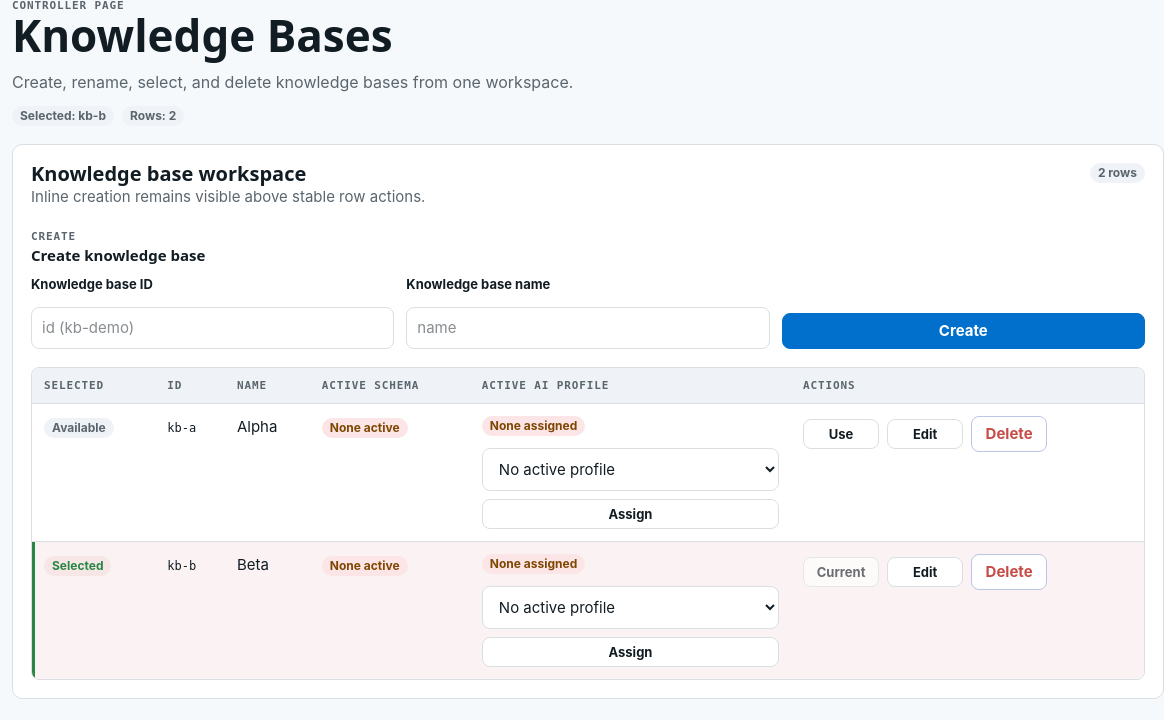
Test: knowledge bases page › keeps row identity stable after deleting another row
Expected: the text "Beta" is shown, [237, 556, 269, 574]
Click the button "Delete" in the row of "Available".
click(1009, 434)  # box [971, 416, 1047, 452]
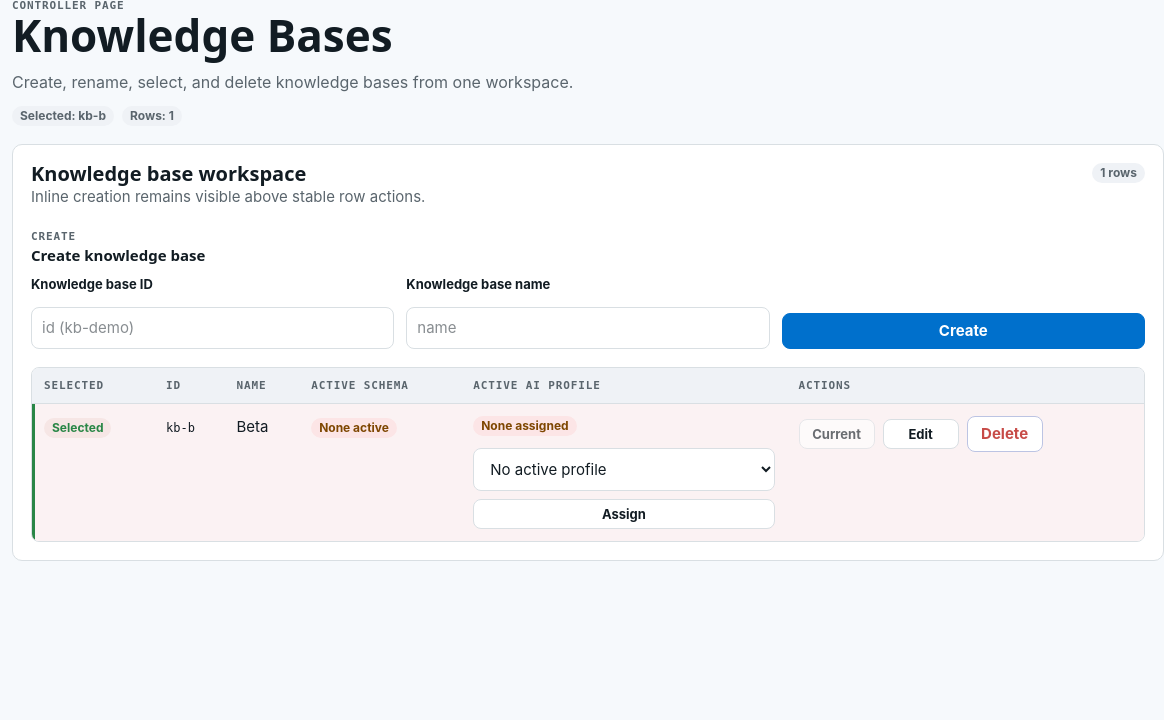
Expected: the text "Beta" is shown, [236, 418, 268, 436]
Now the text "Alpha" is gone
